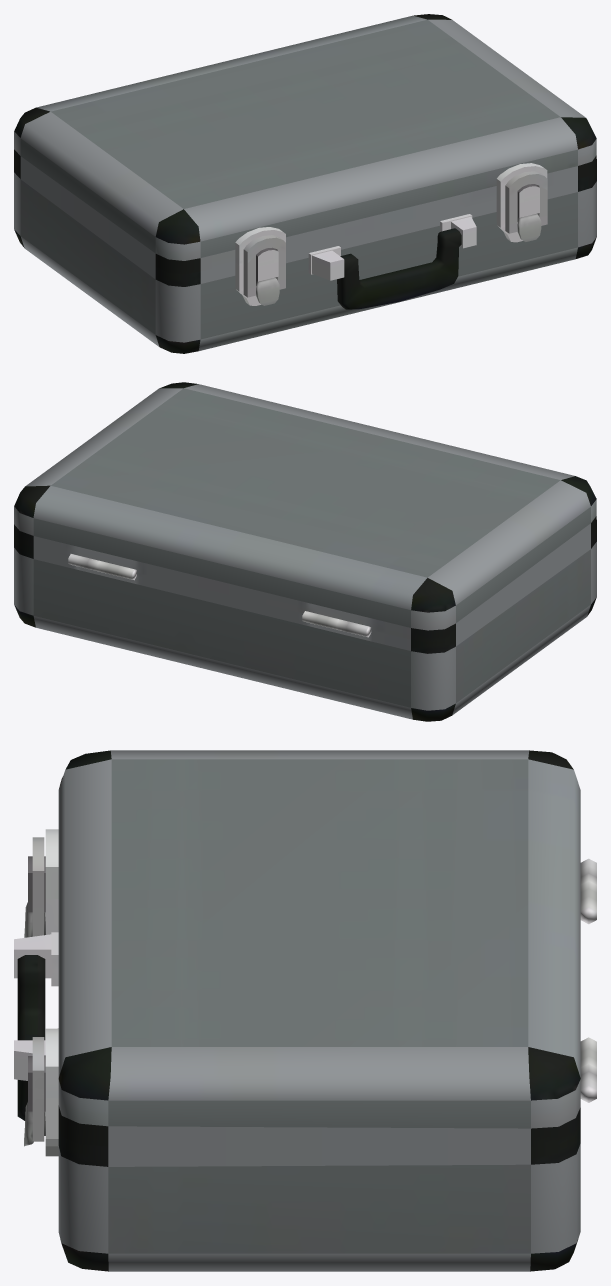
3 renders of one model, top to bottom at view 1: azimuth 30°, elevation 25°; view 2: azimuth 150°, elevation 25°; view 3: azimuth 270°, elevation 25°, orthographic. The views are drawn at different scales.
Bounding box in the file's own units: 7.16 × 2.19 × 5.31.
1 material, 1 textured.
